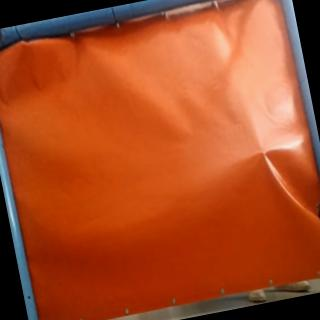Hit-hRxx: (256, 144, 273, 161)
